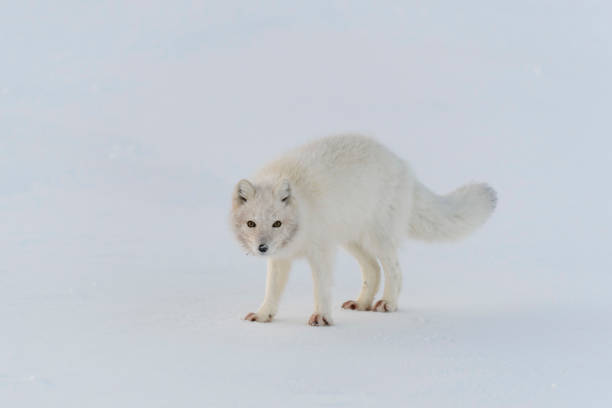arcticfox: (230, 181, 300, 259)
